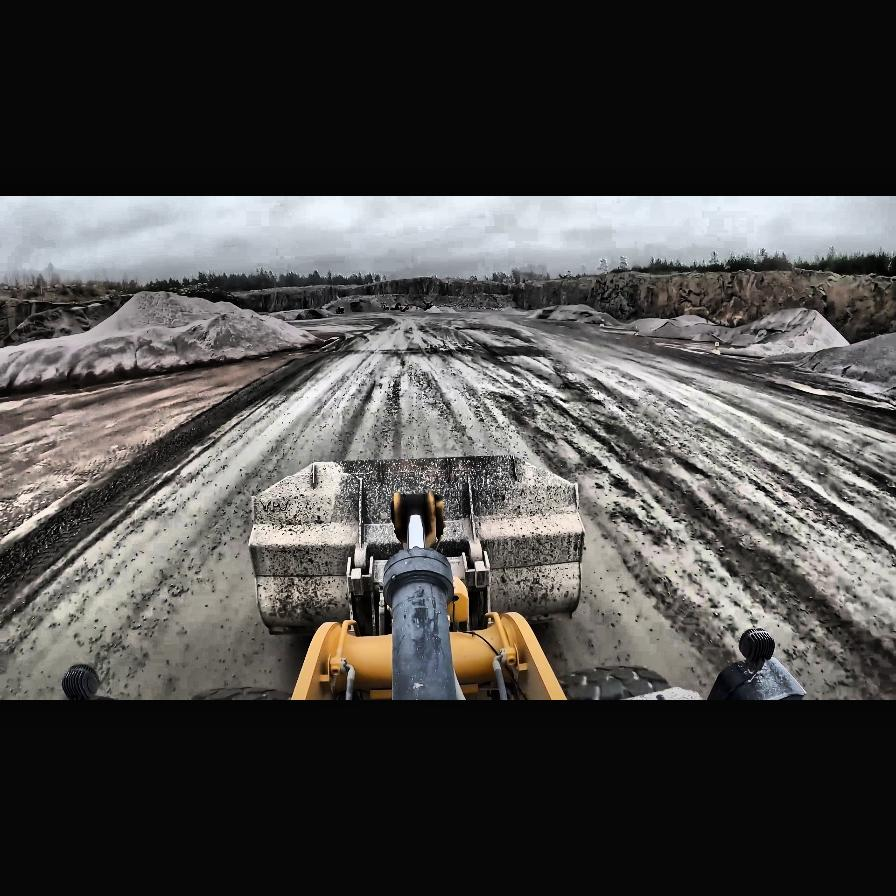anchor: (391, 490, 442, 548)
pile of gravel: (1, 291, 330, 395), (790, 326, 896, 396), (720, 308, 848, 352), (623, 314, 721, 340), (440, 291, 512, 311), (536, 304, 604, 322), (334, 294, 392, 314), (270, 307, 330, 320), (669, 314, 713, 326), (522, 306, 556, 320), (432, 306, 458, 314), (424, 306, 442, 312)
